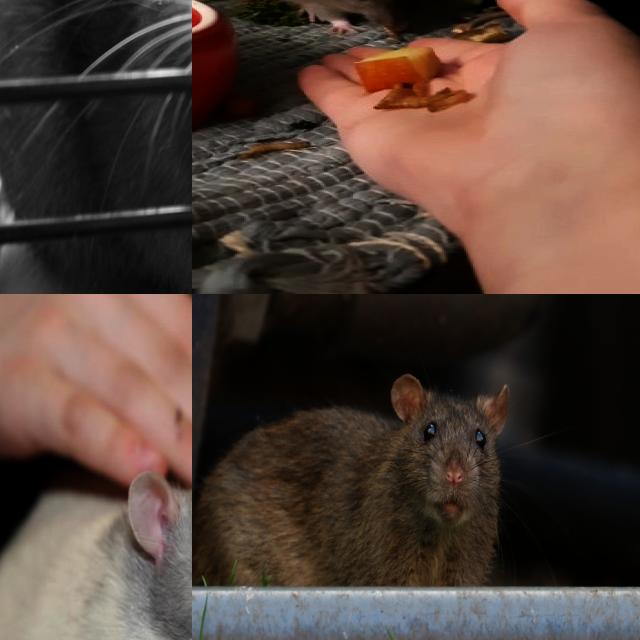rat: (192, 383, 513, 586), (0, 0, 192, 294), (41, 465, 192, 640), (248, 0, 406, 35)
